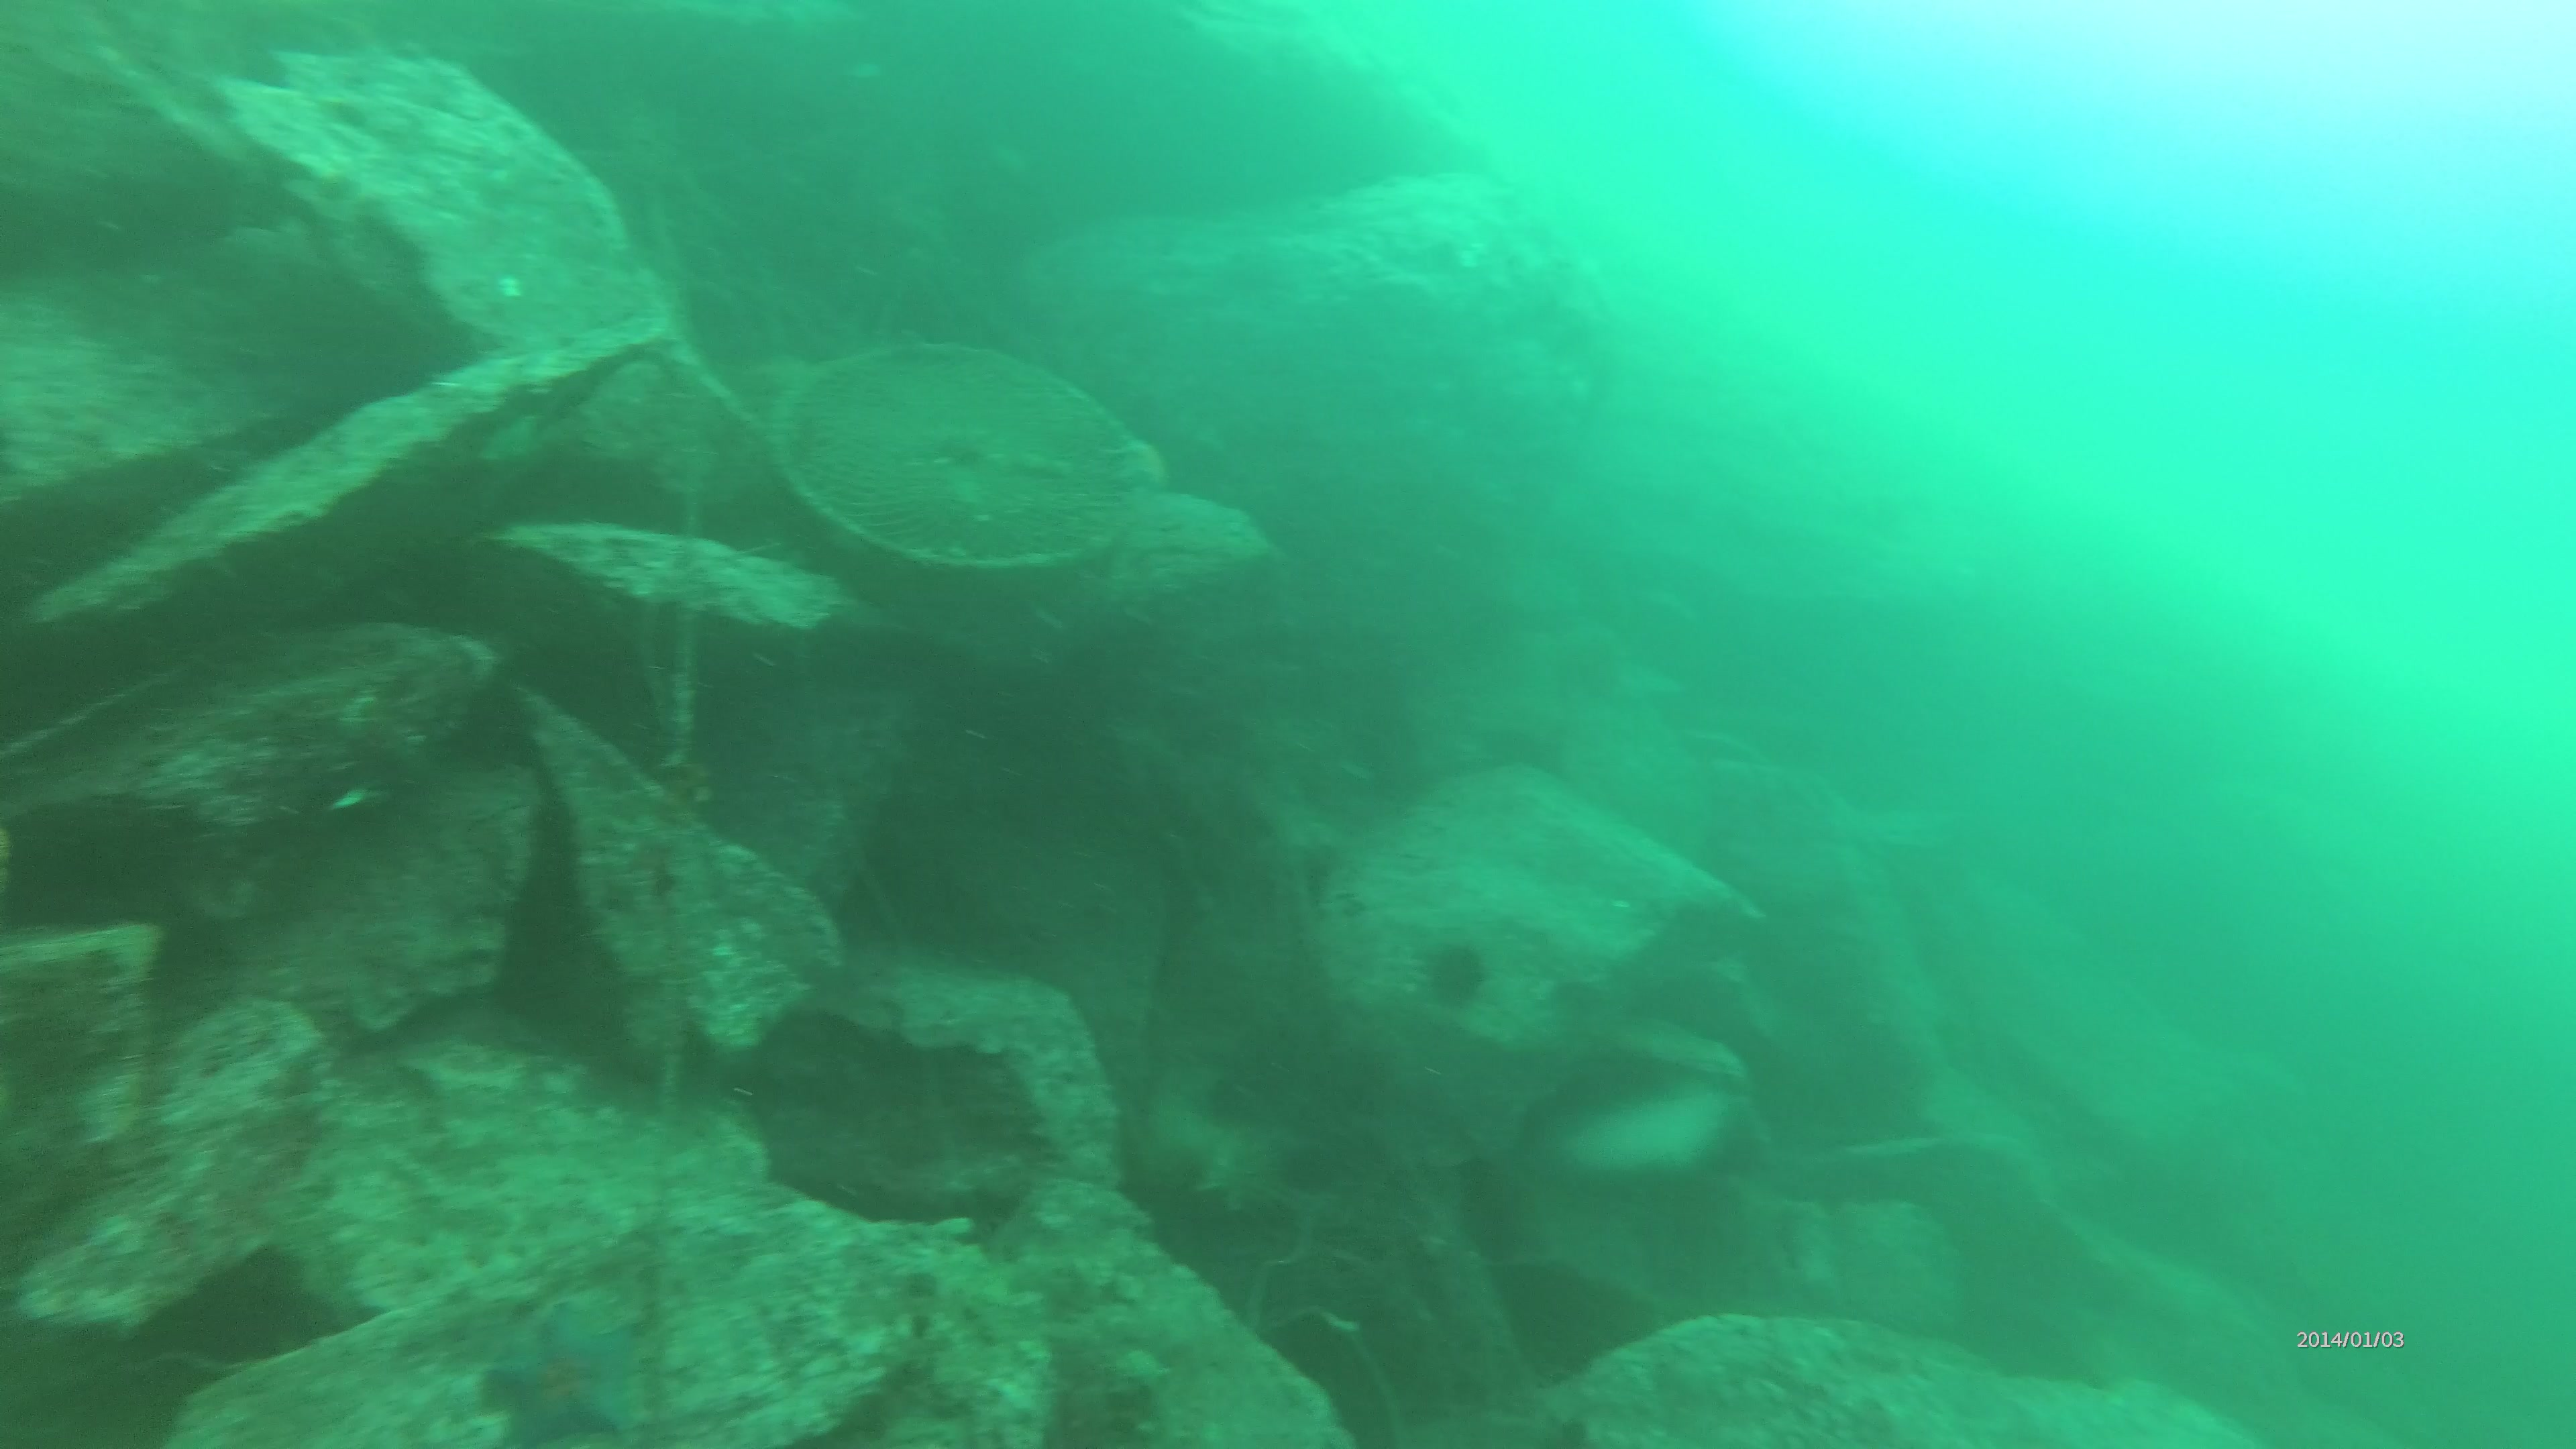echinus: (1422, 931, 1504, 1003)
starfish: (490, 1306, 642, 1447)
